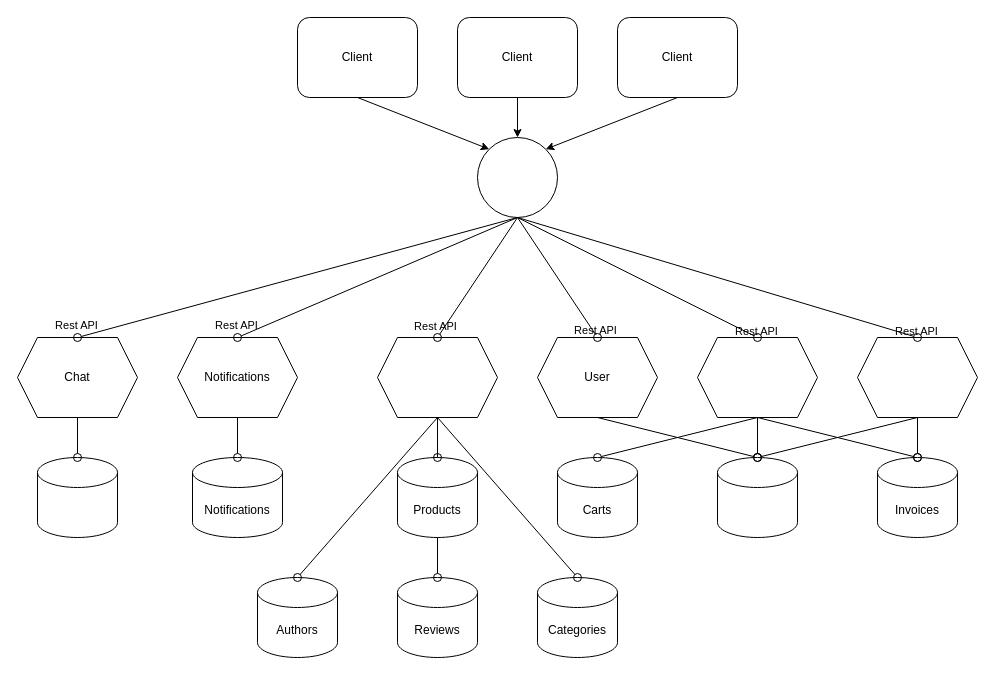
Some shapes in this 995 by 675 pixel diagram are drawn without their labels. The shapes that lost their labels are listed below. From the top down, each one's centre as x and y in pixels, then its label:
At [517,177]: "API gateway".
At [437,377]: "Product".
At [757,377]: "Oder".
At [917,377]: "Invoice".
At [77,497]: "Chats".
At [757,497]: "Users".
